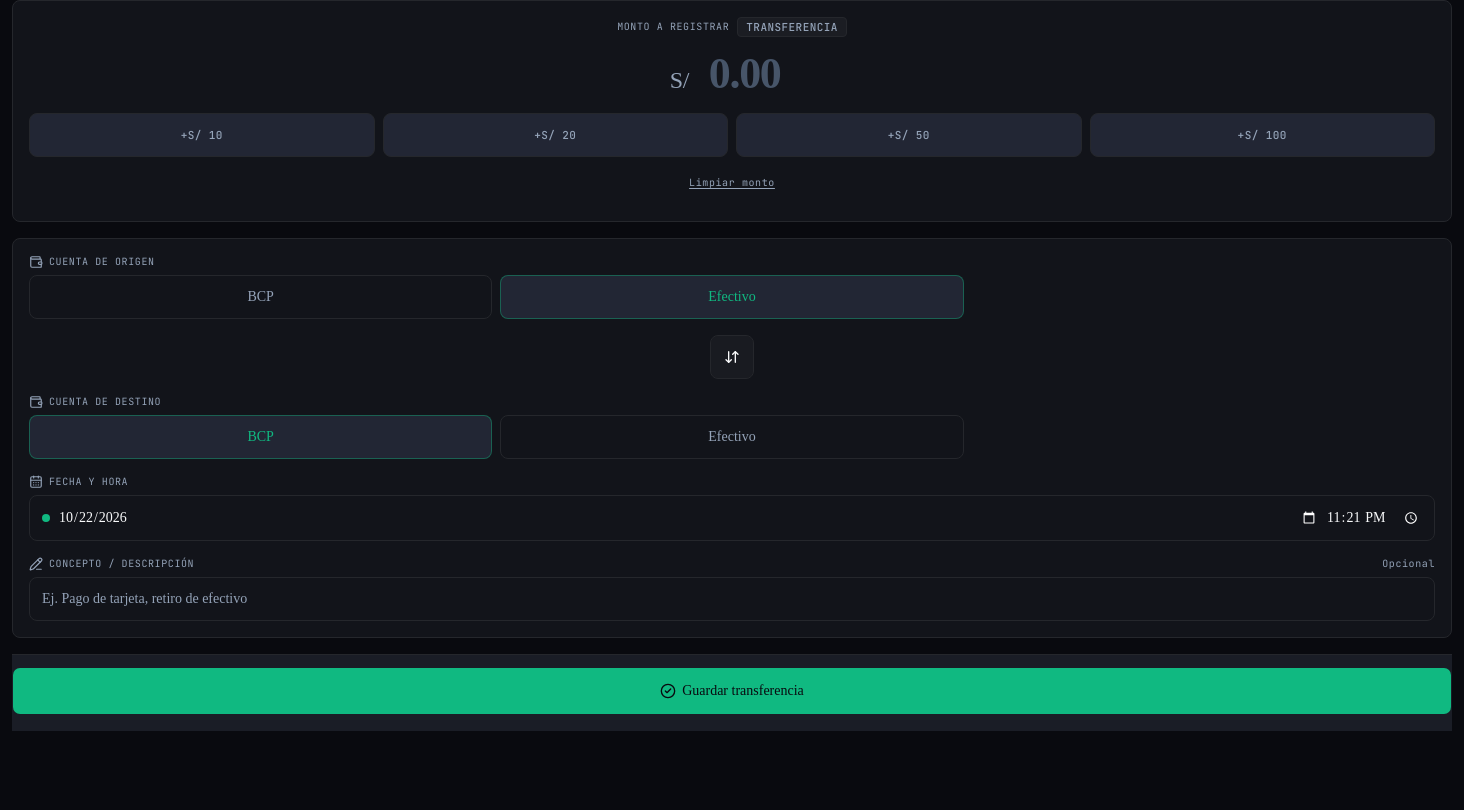
Scenario: TransferForm › requires a valid amount
The image size is (1464, 810).
Expected: the element named "Cuenta de origen" is shown, [29, 275, 964, 319]
Click the button "Guardar transferencia" at (732, 691), box [12, 667, 1452, 715]
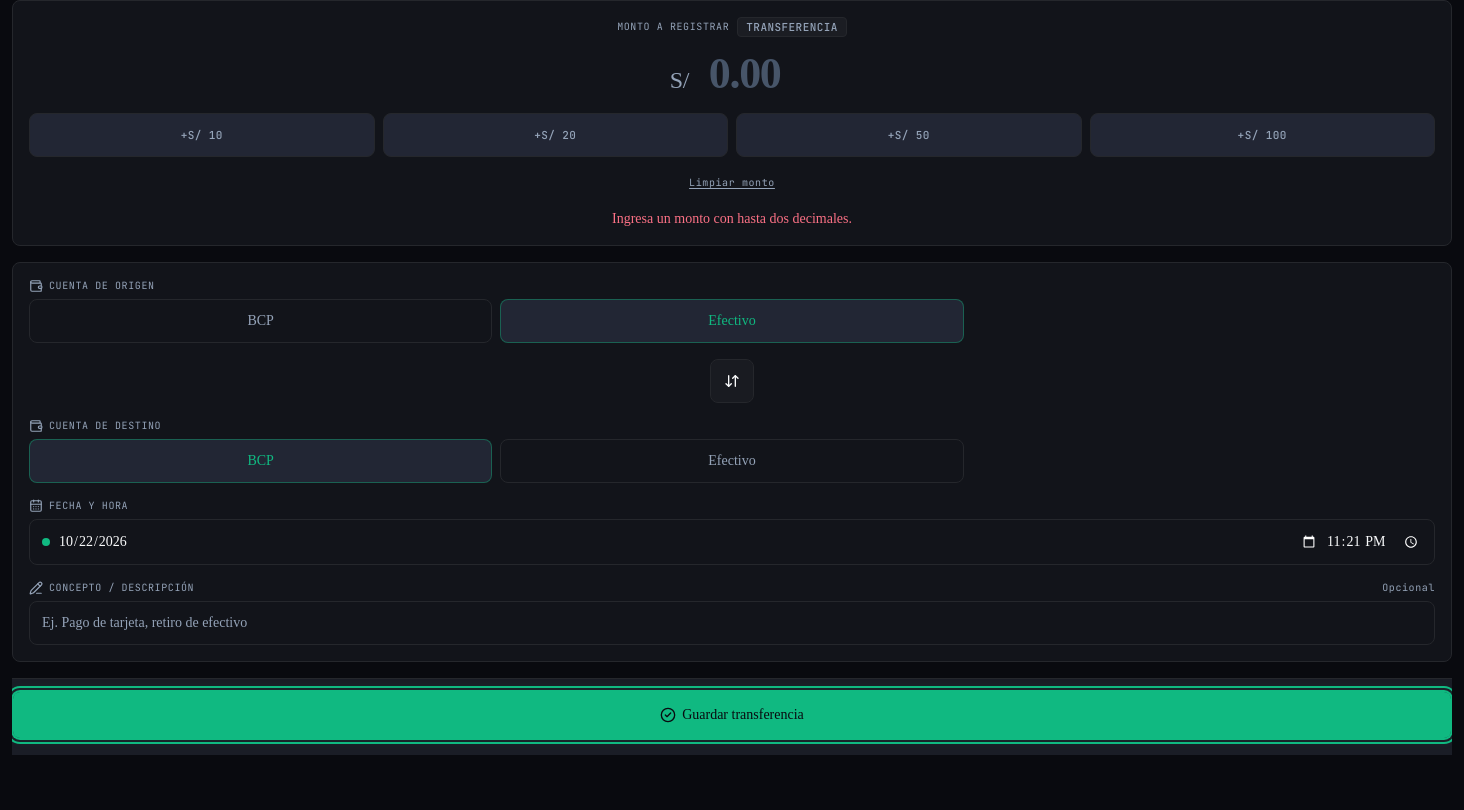
Expected: the text "Ingresa un monto con hasta dos decimales." is shown, [612, 211, 852, 226]
Type "0" into the field named "Monto" at (745, 73), box [695, 45, 794, 101]
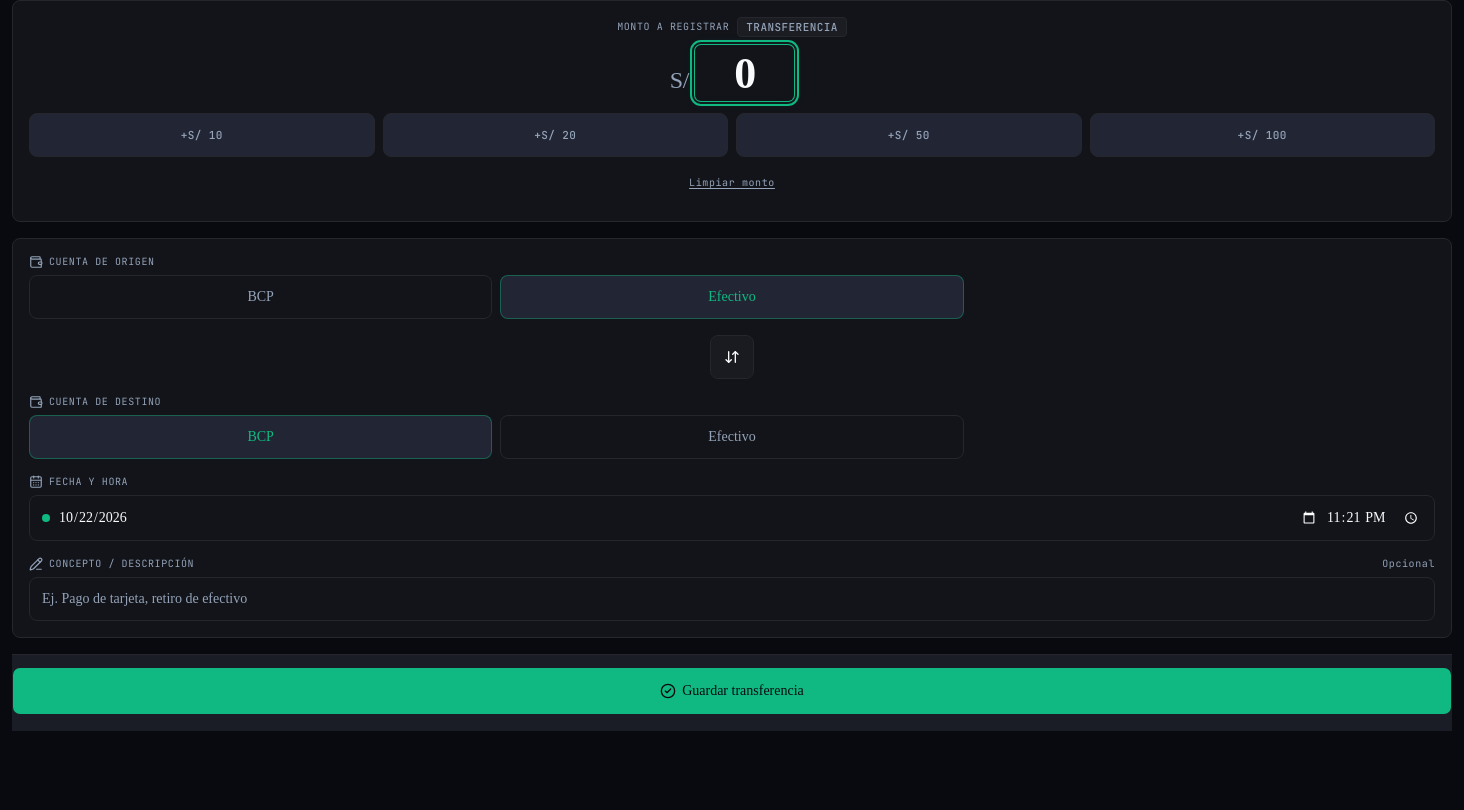
Click the button "Guardar transferencia" at (732, 691), box [12, 667, 1452, 715]
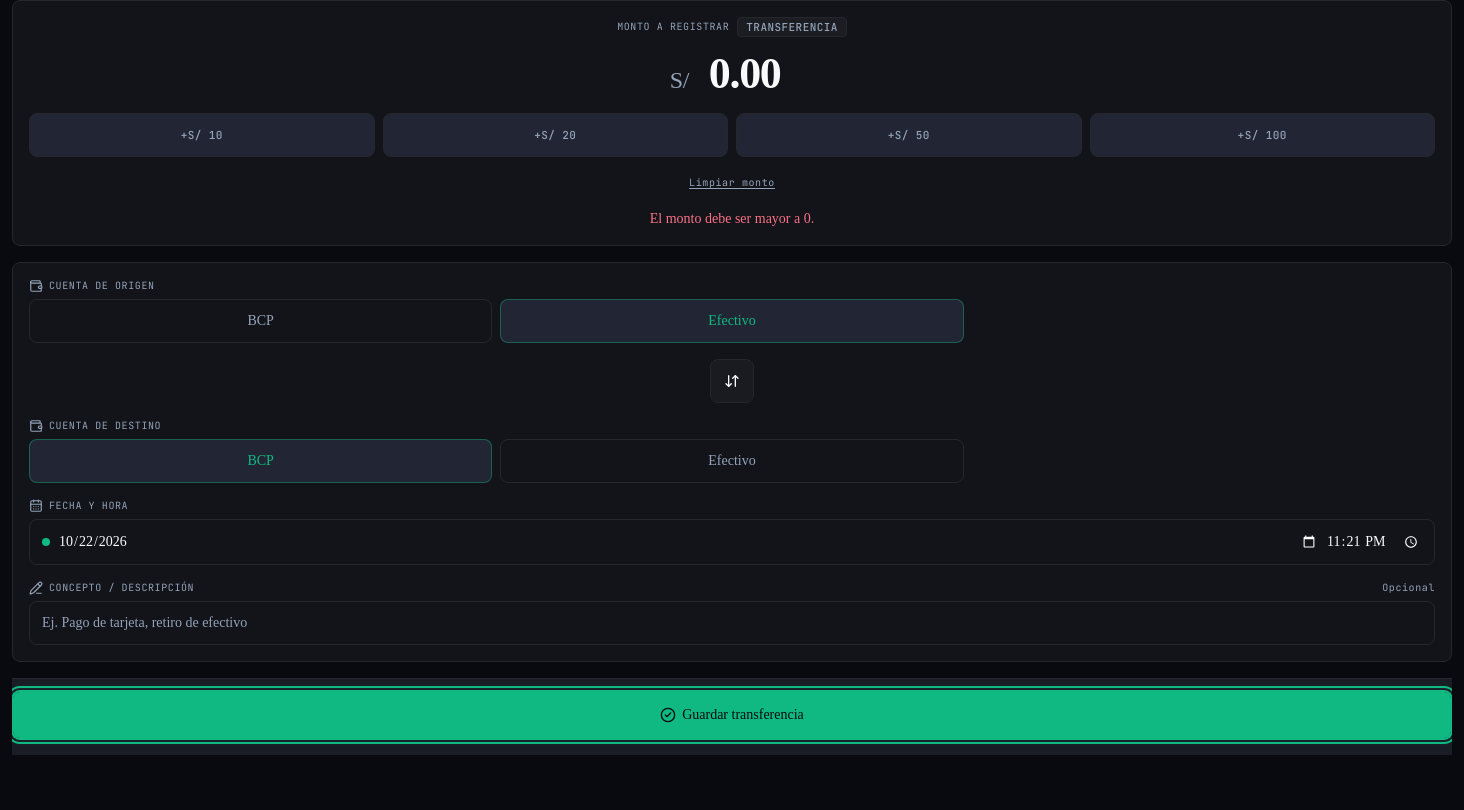
Expected: the text "El monto debe ser mayor a 0." is shown, [650, 211, 814, 226]
